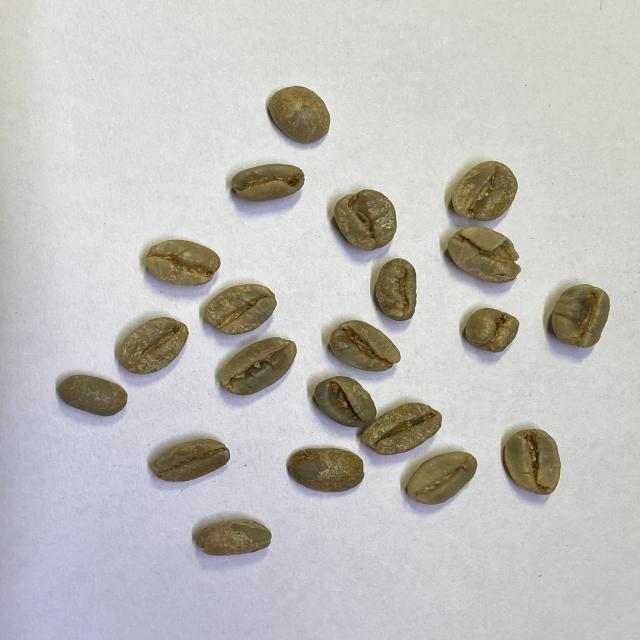bad: (216, 336, 299, 396), (448, 226, 520, 286), (552, 283, 610, 347), (336, 189, 398, 248), (229, 162, 304, 202), (374, 258, 419, 322), (464, 307, 519, 352)
good: (360, 401, 444, 454), (450, 159, 517, 224), (264, 84, 332, 146), (406, 450, 479, 505), (503, 428, 560, 498), (122, 317, 189, 375), (331, 318, 399, 374), (204, 283, 276, 333), (152, 436, 230, 482), (145, 240, 221, 286), (288, 446, 365, 491), (315, 375, 377, 427), (59, 375, 127, 419), (195, 519, 272, 555)
